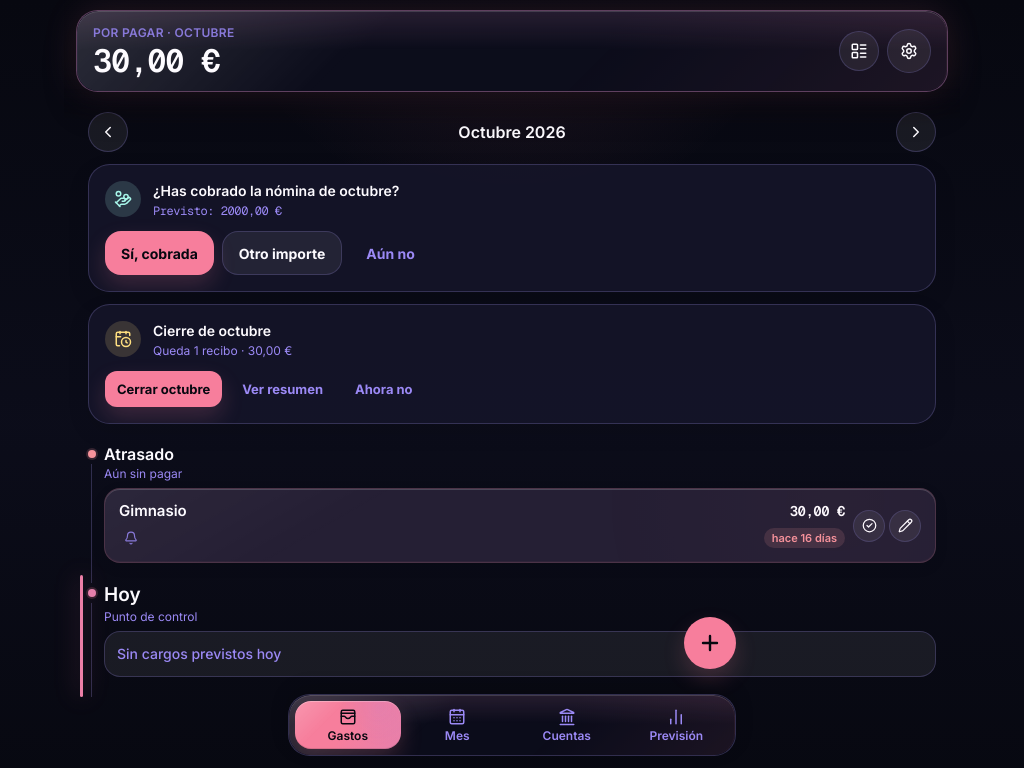
Scenario: ExpenseDashboard salary prompt focus › hands the focus to the month title after saving another amount
Click the button "Otro importe" at (282, 253), box left=222, top=231, right=342, bottom=275
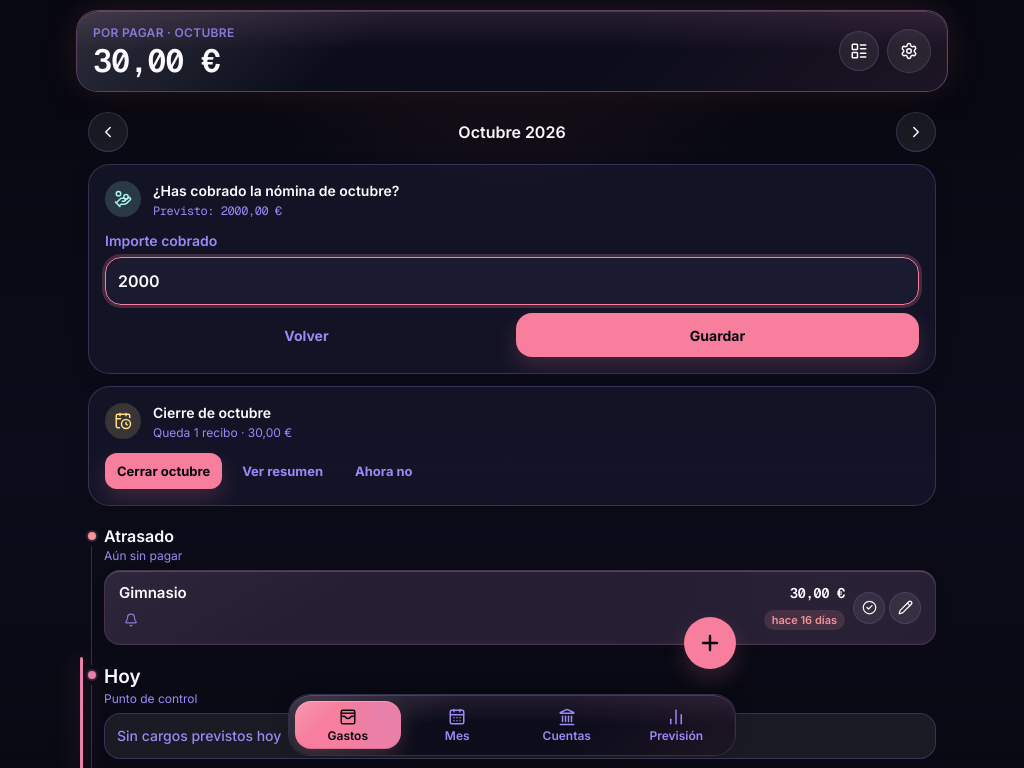
Replace the text in the field labelled "Importe cobrado" with "1950" at (512, 281), box left=105, top=257, right=919, bottom=305
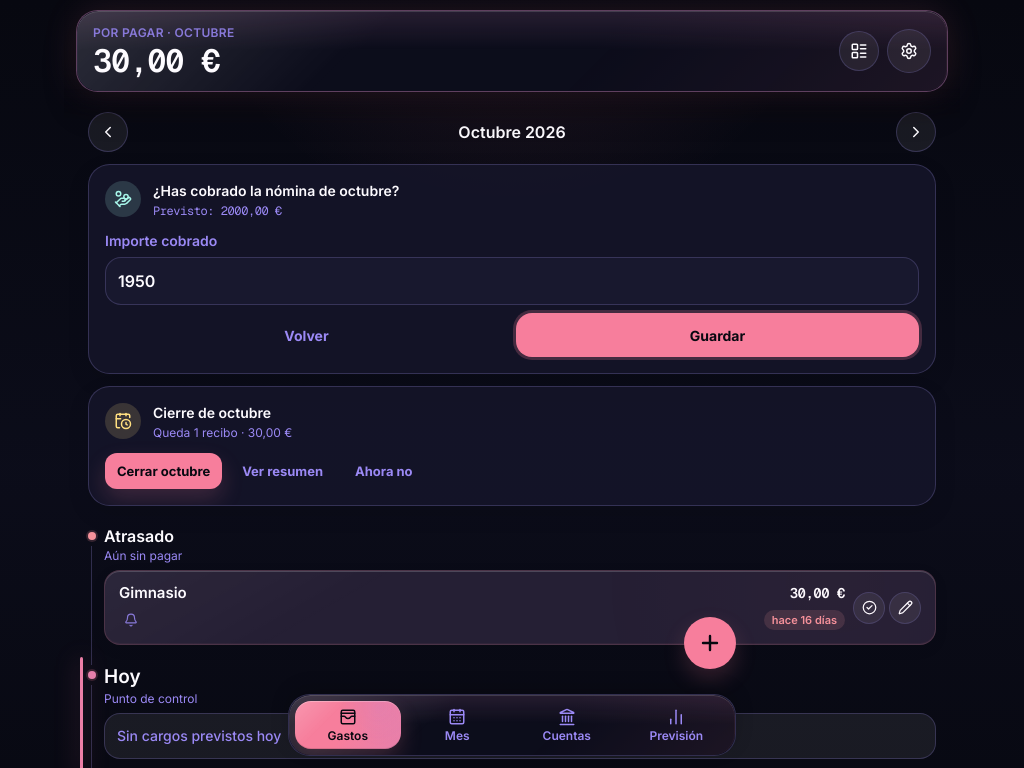
Click the button "Guardar" at (718, 335), box left=516, top=313, right=919, bottom=357
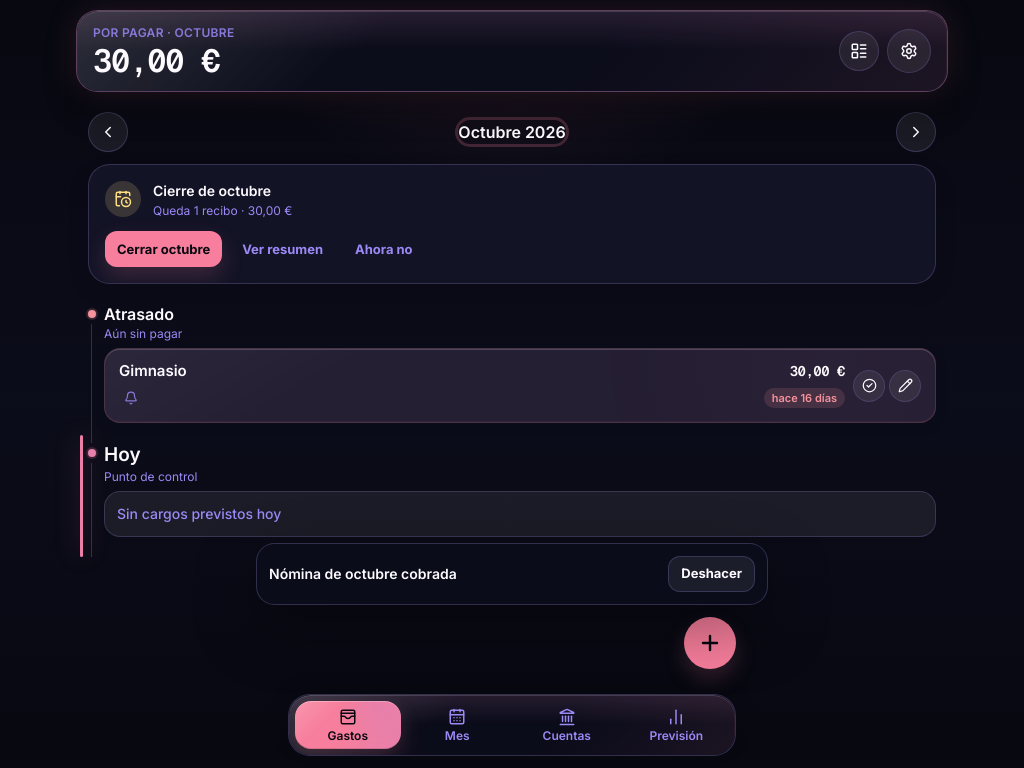
Expected: the heading "¿Has cobrado la nómina de octubre?" is gone
